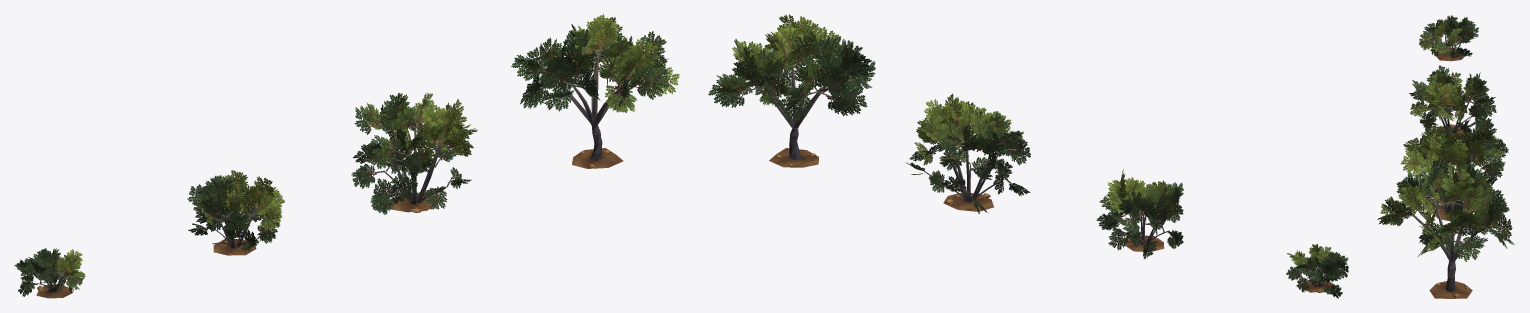
Rendered from lentiscos.glb.
The picture shows the model from 3 angles, left to right: view 1: azimuth 30°, elevation 25°; view 2: azimuth 150°, elevation 25°; view 3: azimuth 270°, elevation 25°; orthographic projection. The views are drawn at different scales.
Visible parts, largest first — view 1: Lentisco4_Arvoreta, Lentisco3_ArbustoAlto, Lentisco2_MoitaMedia, Lentisco1_MoitaBaixa; view 2: Lentisco4_Arvoreta, Lentisco3_ArbustoAlto, Lentisco2_MoitaMedia, Lentisco1_MoitaBaixa; view 3: Lentisco4_Arvoreta, Lentisco3_ArbustoAlto, Lentisco2_MoitaMedia, Lentisco1_MoitaBaixa.
Part boxes in pixels (<box>): Lentisco4_Arvoreta: <box>511,14,679,168</box>; Lentisco3_ArbustoAlto: <box>351,93,477,214</box>; Lentisco2_MoitaMedia: <box>187,170,284,255</box>; Lentisco1_MoitaBaixa: <box>14,248,85,298</box>; Lentisco4_Arvoreta: <box>708,14,875,167</box>; Lentisco3_ArbustoAlto: <box>906,93,1030,213</box>; Lentisco2_MoitaMedia: <box>1096,169,1183,259</box>; Lentisco1_MoitaBaixa: <box>1286,244,1348,298</box>; Lentisco4_Arvoreta: <box>1377,158,1514,298</box>; Lentisco3_ArbustoAlto: <box>1400,114,1508,221</box>; Lentisco2_MoitaMedia: <box>1409,65,1496,140</box>; Lentisco1_MoitaBaixa: <box>1419,15,1478,61</box>.
Size of the model in its own units: 24.98 by 5.1 by 5.22.
Materials: 2 (2 with a texture image).
